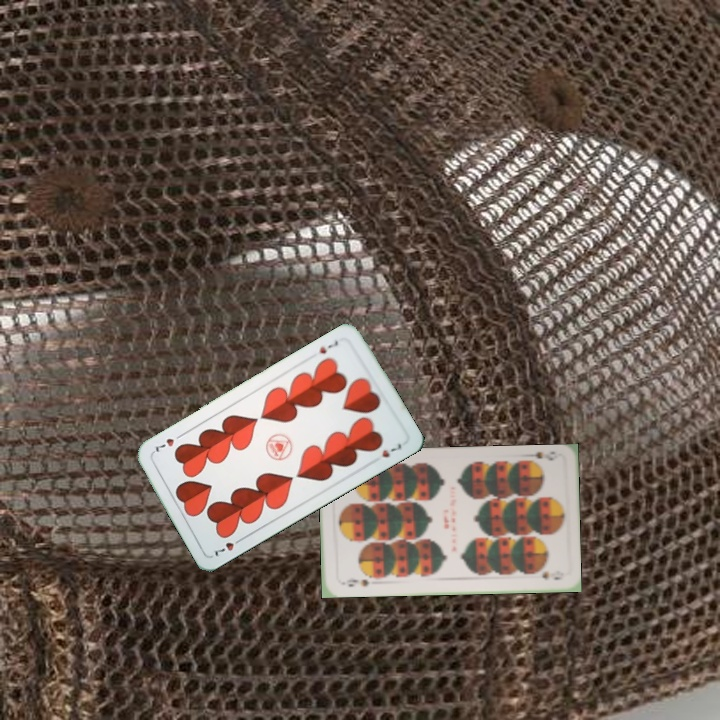H7: (210, 533, 246, 559), (315, 336, 341, 357)
S9: (521, 447, 561, 463), (336, 575, 373, 589)
